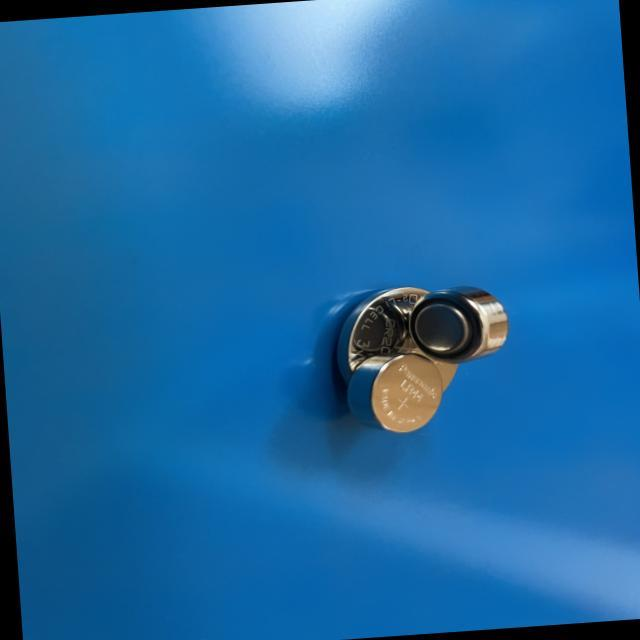COIN: (324, 282, 460, 411), (405, 280, 512, 368), (345, 351, 444, 438)
